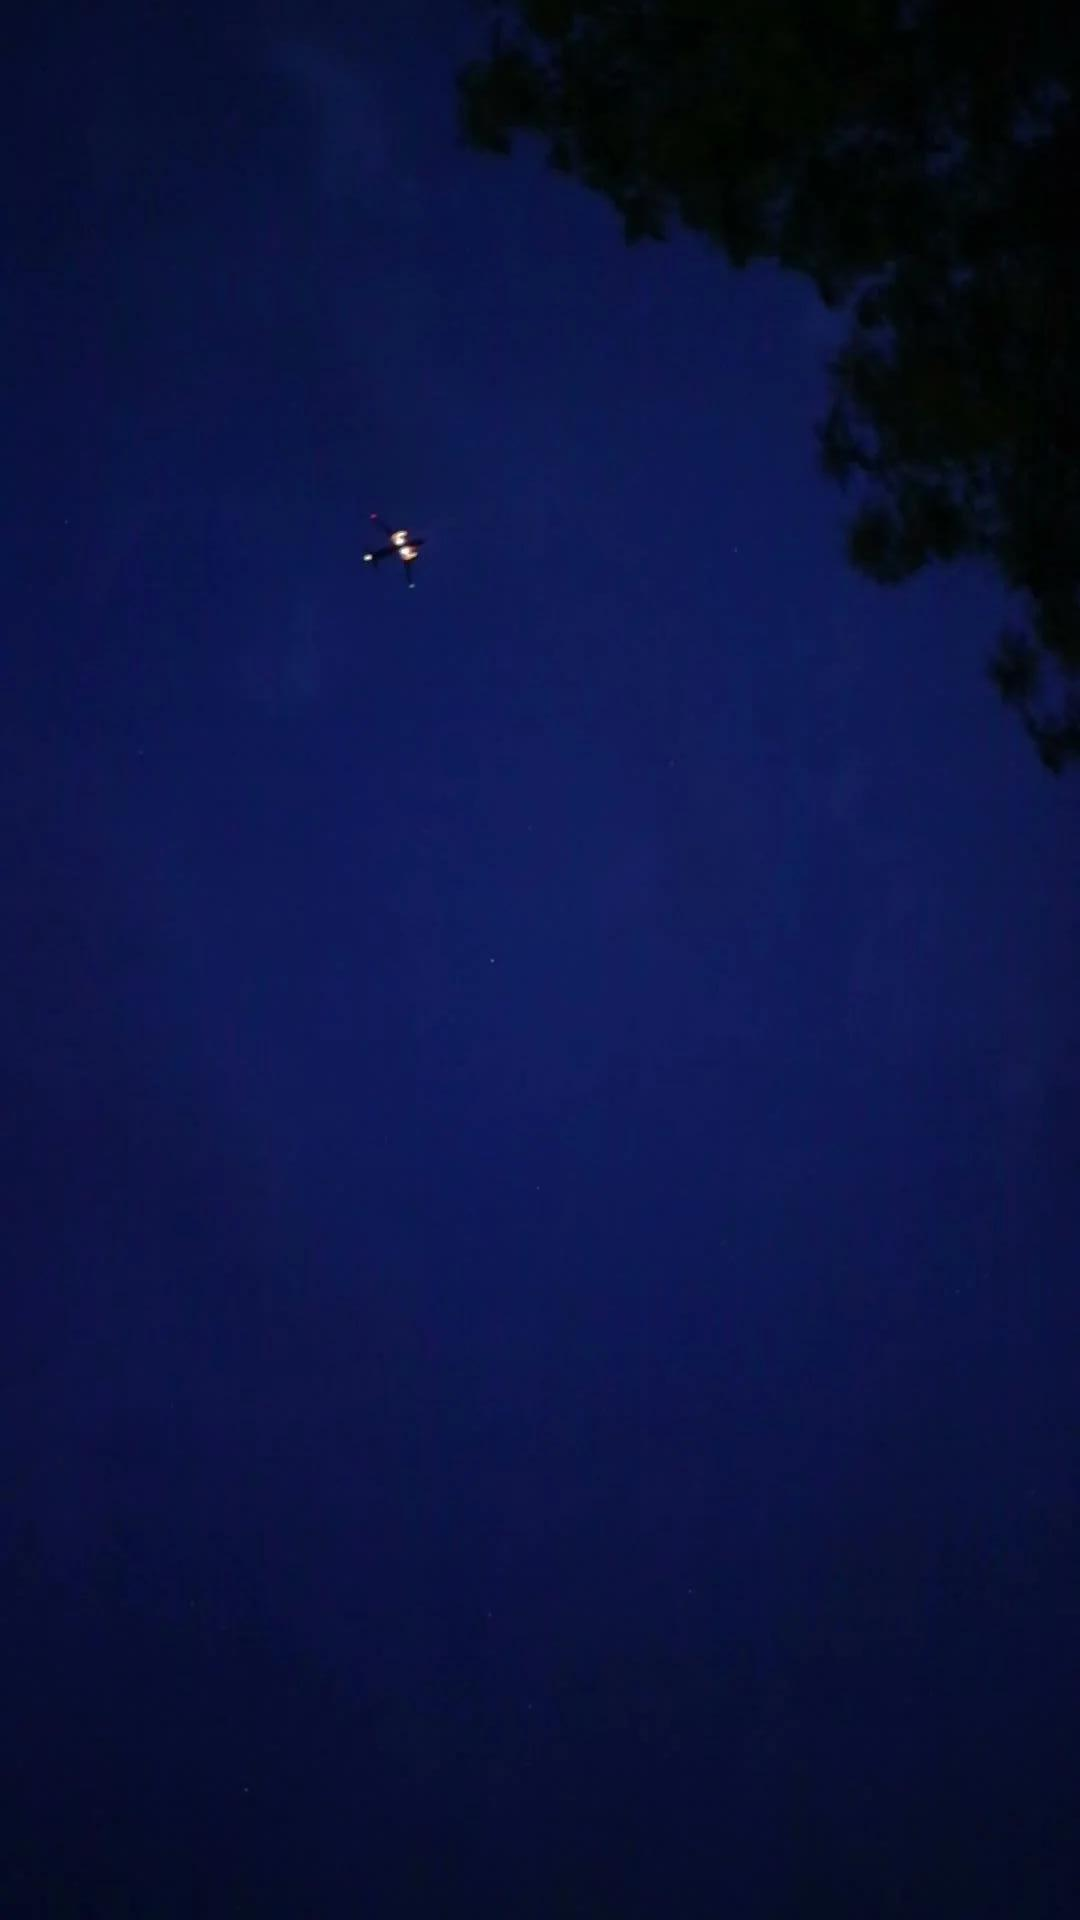Plane: (348, 500, 444, 588)
